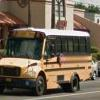Bus: (10, 23, 96, 87)
